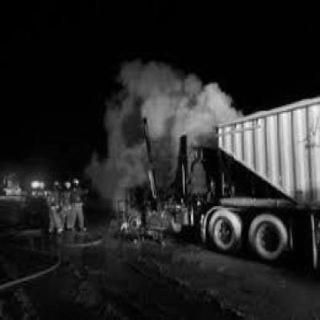Smoke: (83, 51, 229, 209)
